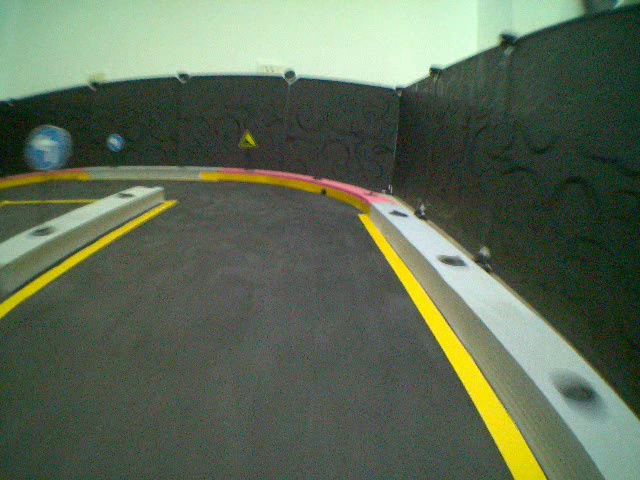fast: (234, 128, 260, 150)
turn: (22, 125, 74, 169)
